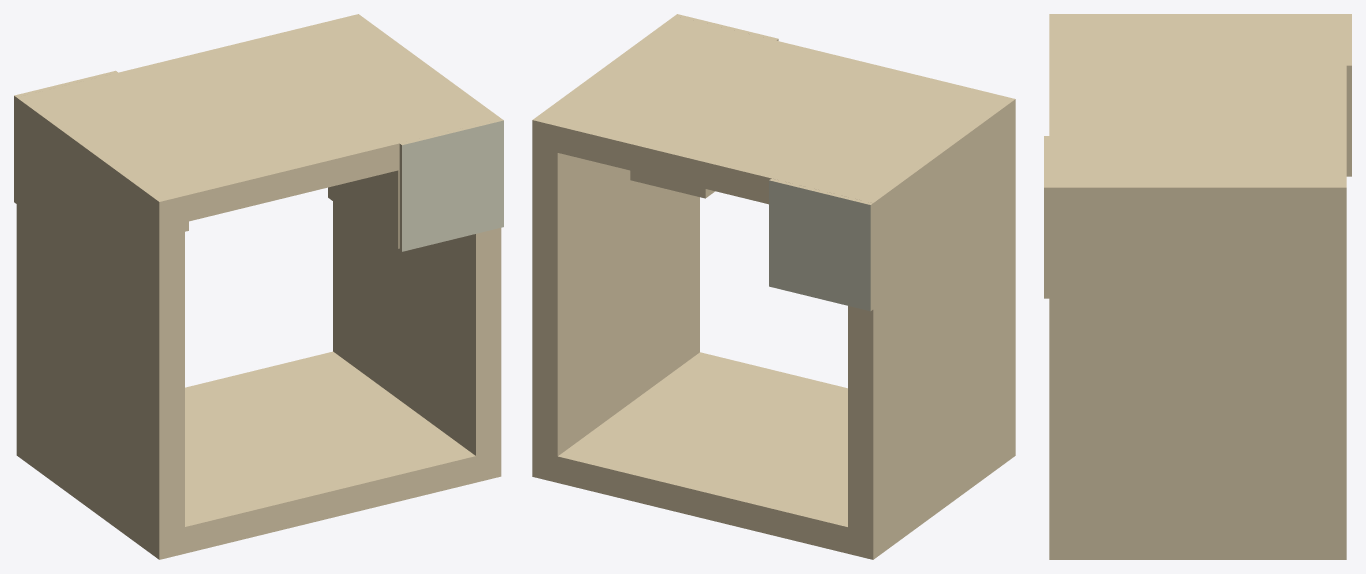
3 renders of one model, left to right at view 1: azimuth 30°, elevation 25°; view 2: azimuth 150°, elevation 25°; view 3: azimuth 270°, elevation 25°, orthographic. The views are drawn at different scales.
Parts seen in each view (by area): view 1: case11.011; view 2: case11.011; view 3: case11.011.
Part boxes in pixels (box(x1,y1,x2,y2)): case11.011: box(14, 14, 503, 559); case11.011: box(532, 14, 1015, 559); case11.011: box(1044, 14, 1351, 559).
Size of the model in its own units: 0.235 by 0.1761 by 0.235.
